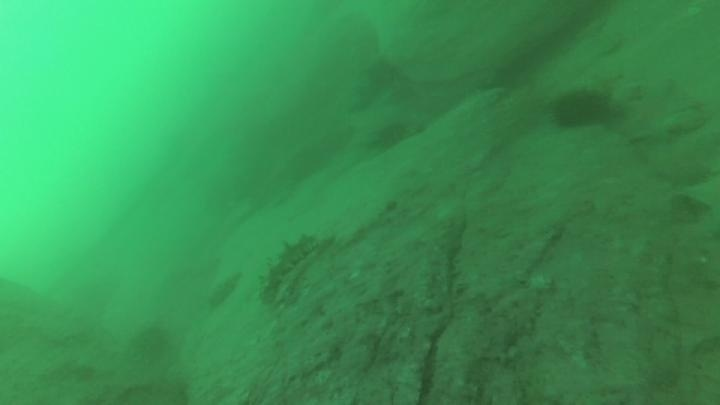echinus: (549, 86, 614, 132), (129, 321, 174, 364), (368, 118, 413, 153)
holothurian: (416, 212, 469, 314), (257, 229, 322, 305), (204, 269, 245, 312)
starfish: (616, 78, 704, 148)
